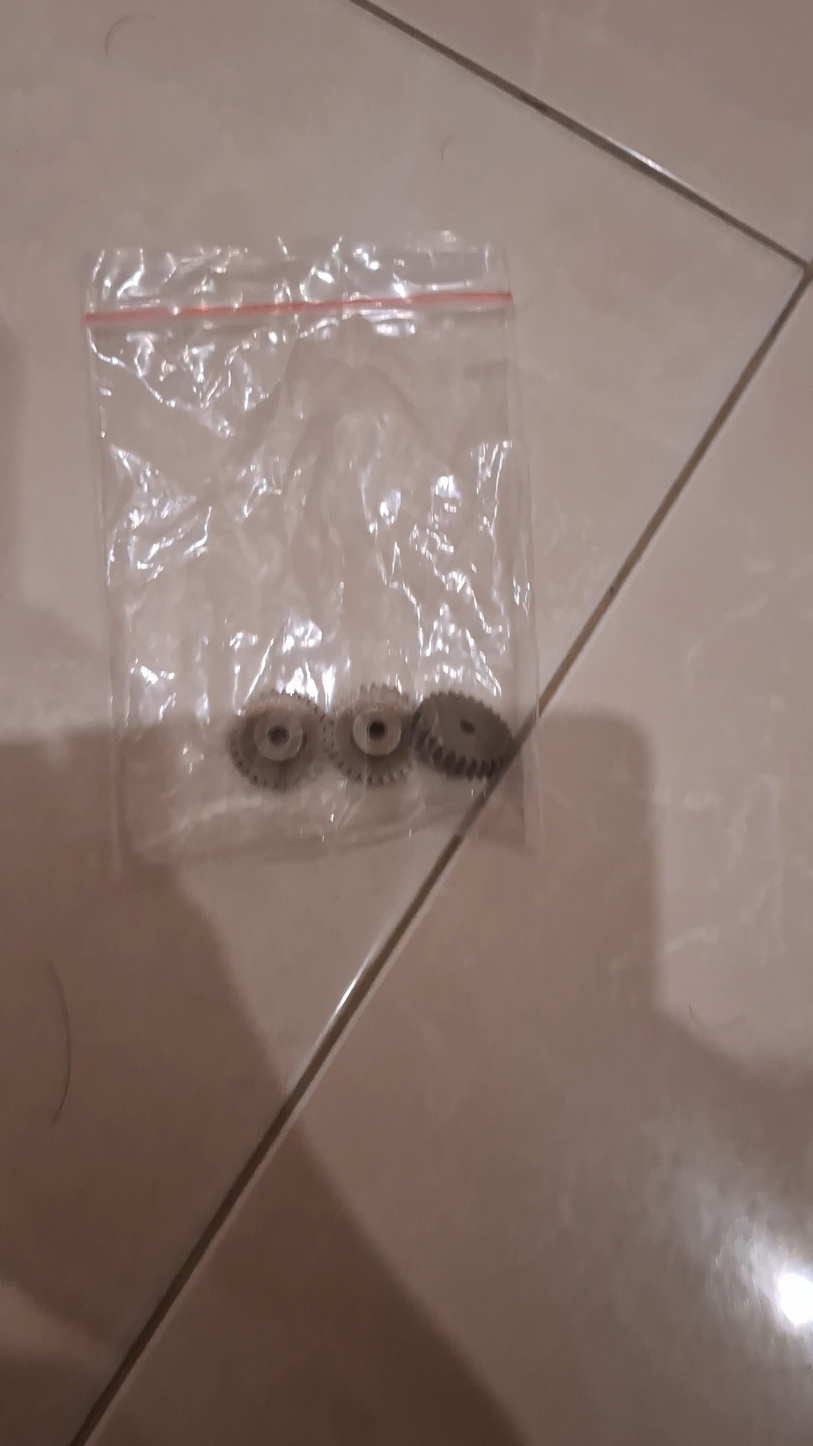spur gear: (224, 692, 327, 792), (408, 689, 515, 781), (326, 686, 421, 788)
